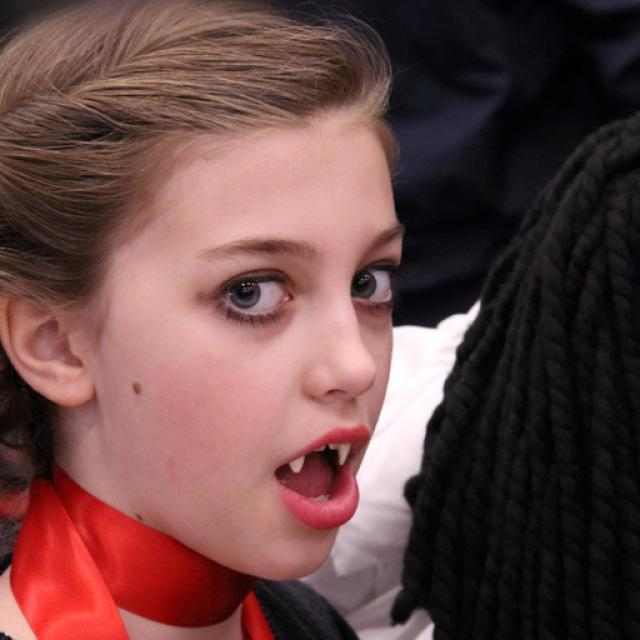surprise: (97, 105, 406, 581)
